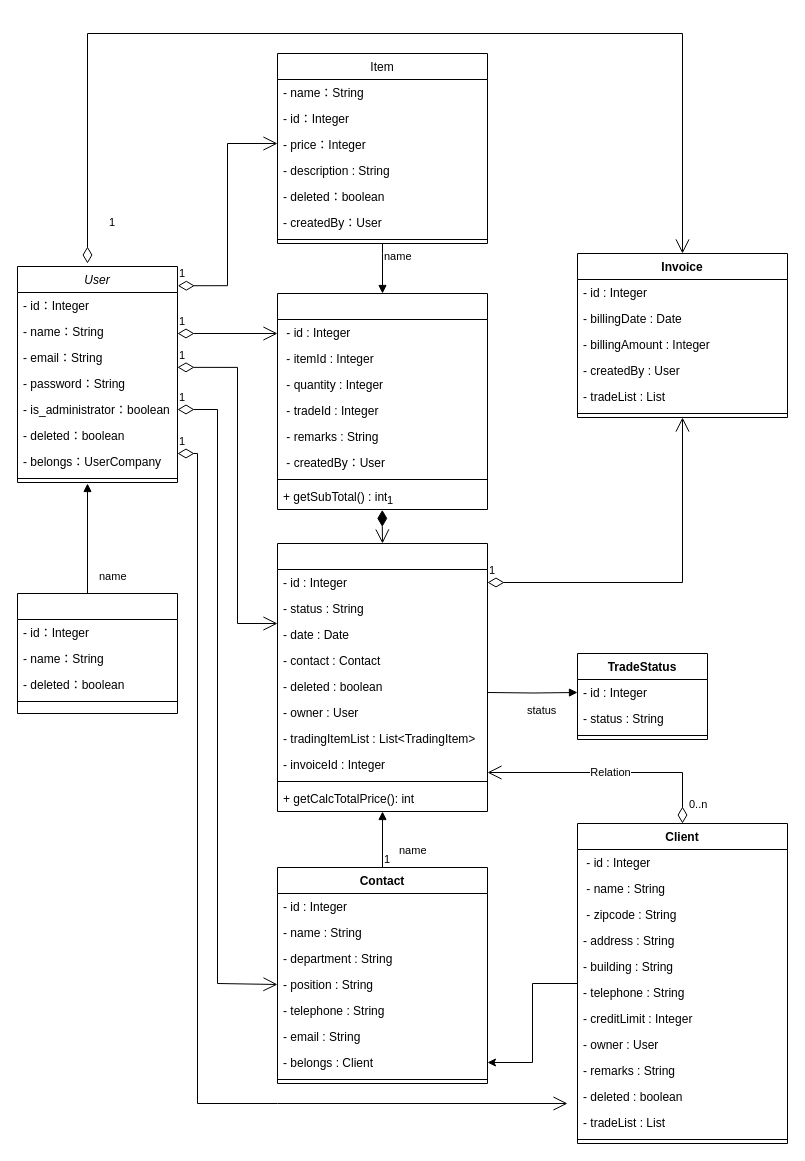
This 805x1161 diagram has some shape labels left out. Each missing label, with the box of its shape:
Trade: (276, 542, 488, 812)
TradingItem: (276, 292, 488, 510)
UserCompany: (16, 592, 178, 714)
